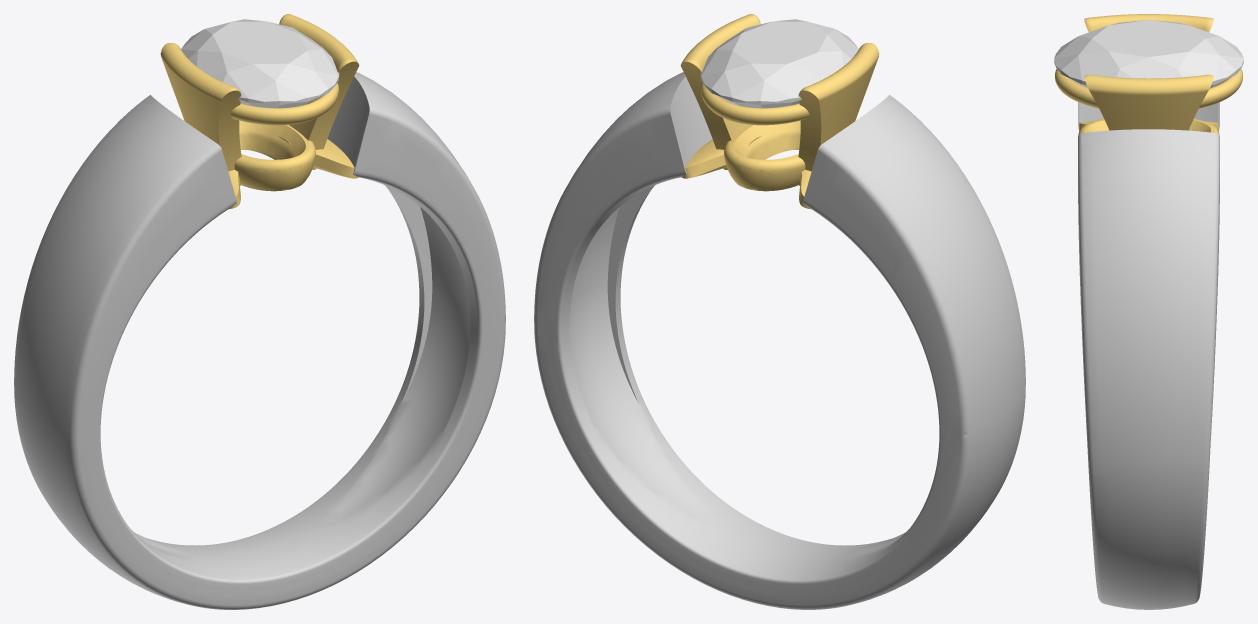
Rendered from KathyMatteV2.glb.
3 renders of one model, left to right at view 1: azimuth 30°, elevation 25°; view 2: azimuth 150°, elevation 25°; view 3: azimuth 270°, elevation 25°, orthographic.
Parts seen in each view (by area): view 1: v3 Kathy PT for 3d model, v2 Kathy YG for 3d model, Kathy dia for 3d model; view 2: v3 Kathy PT for 3d model, v2 Kathy YG for 3d model, Kathy dia for 3d model; view 3: v3 Kathy PT for 3d model, Kathy dia for 3d model, v2 Kathy YG for 3d model.
Part boxes in pixels (x1,y1,x2,y2): v3 Kathy PT for 3d model: (14, 72, 505, 609); v2 Kathy YG for 3d model: (160, 14, 359, 209); Kathy dia for 3d model: (181, 19, 339, 108); v3 Kathy PT for 3d model: (534, 72, 1025, 609); v2 Kathy YG for 3d model: (680, 14, 879, 209); Kathy dia for 3d model: (700, 19, 858, 108); v3 Kathy PT for 3d model: (1078, 85, 1219, 609); Kathy dia for 3d model: (1054, 20, 1243, 88); v2 Kathy YG for 3d model: (1055, 14, 1242, 134).
Size of the model in its own units: 20.94 by 24.68 by 7.75.
